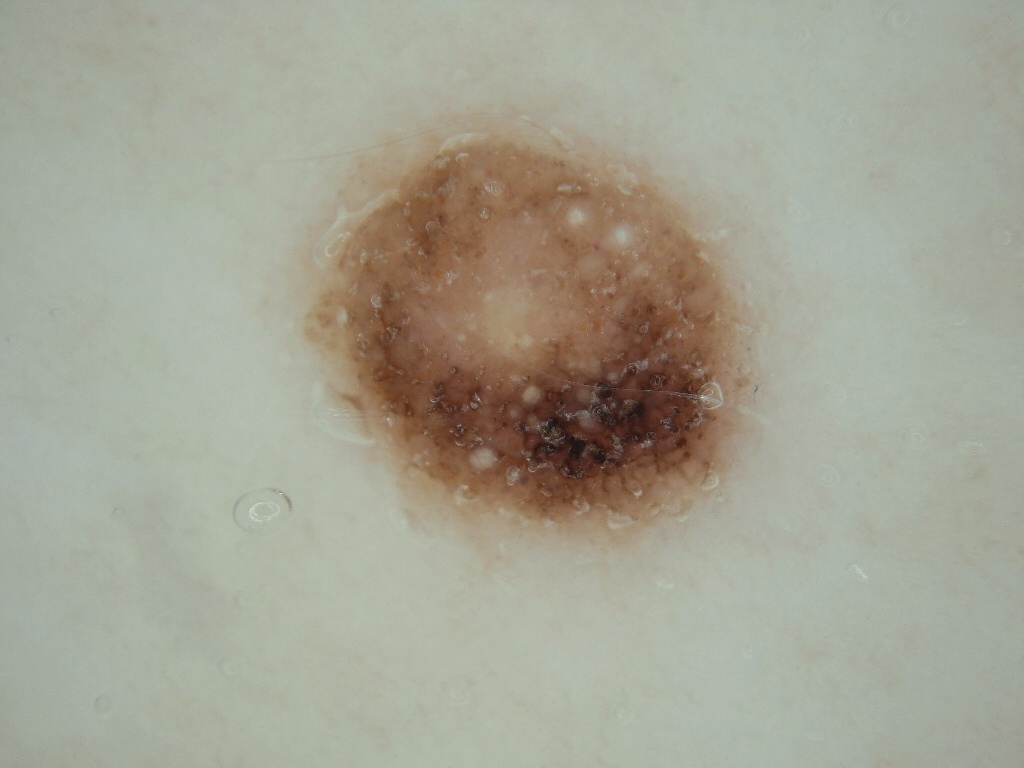Detected Lesion: (292, 108, 767, 545)
